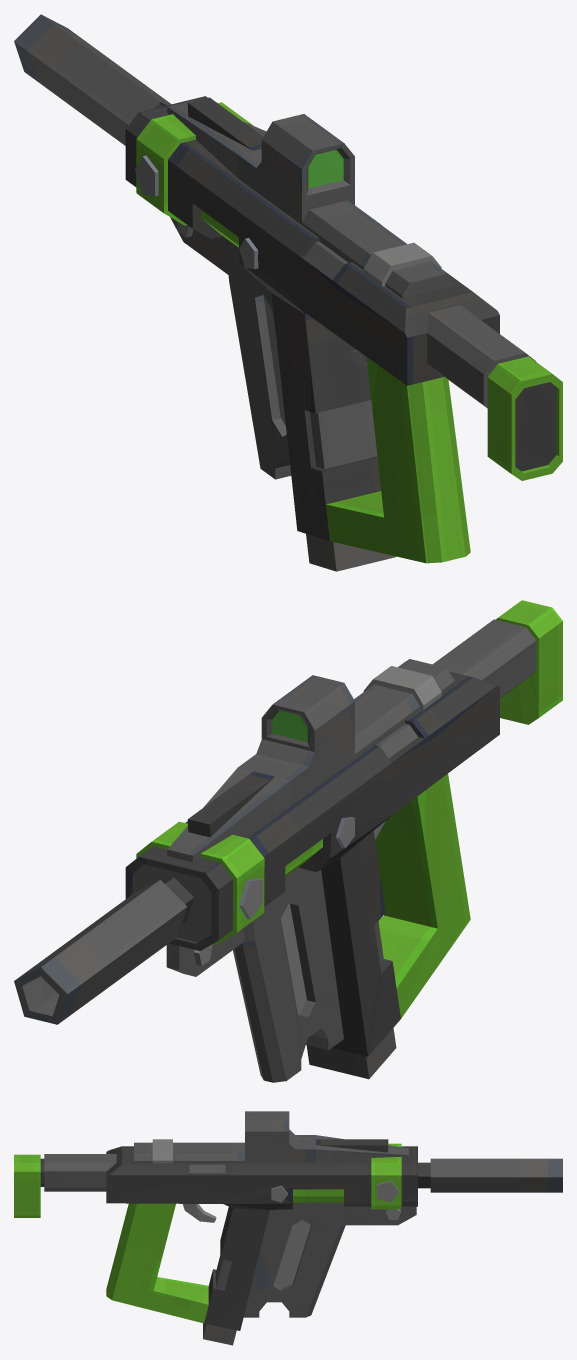
Rendered from smg_5.glb.
3 renders of one model, top to bottom at view 1: azimuth 30°, elevation 25°; view 2: azimuth 150°, elevation 25°; view 3: azimuth 270°, elevation 25°, orthographic. The views are drawn at different scales.
Parts seen in each view (by area): view 1: subfusil_5_texture_0; view 2: subfusil_5_texture_0; view 3: subfusil_5_texture_0.
Boxes of the visible parts, x1,y1,x2,y2 form: subfusil_5_texture_0: [14, 14, 562, 571]; subfusil_5_texture_0: [14, 600, 562, 1082]; subfusil_5_texture_0: [14, 1111, 562, 1345].
Bounding box in the file's own units: 0.0787 × 0.279 × 0.6261.
1 material, 1 textured.
